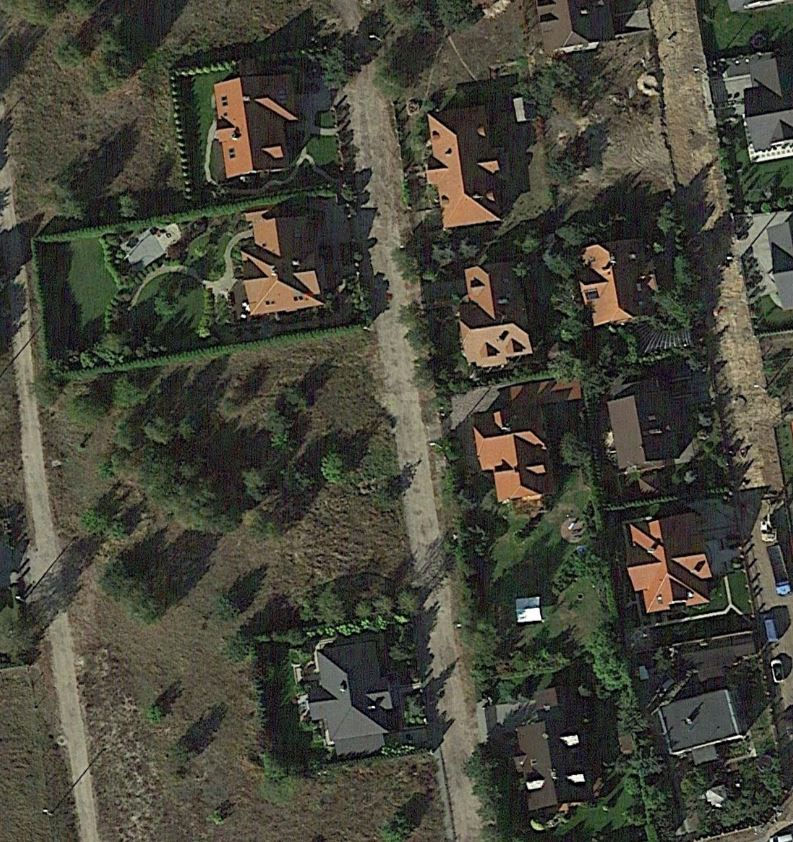family house: (412, 94, 520, 235), (299, 632, 403, 758), (207, 64, 310, 189), (614, 505, 727, 617), (233, 205, 345, 316), (505, 697, 599, 827), (452, 252, 548, 375), (596, 380, 703, 485), (567, 228, 667, 340), (468, 404, 561, 514), (656, 677, 750, 774)
